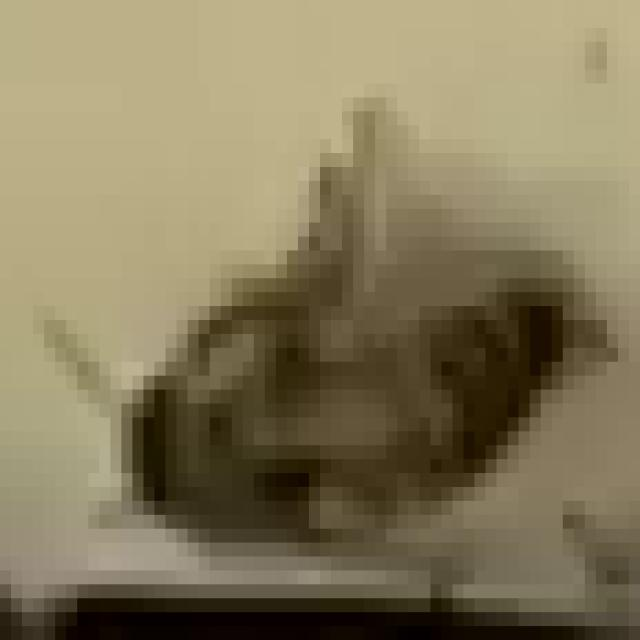honeybee: (73, 197, 616, 594)
